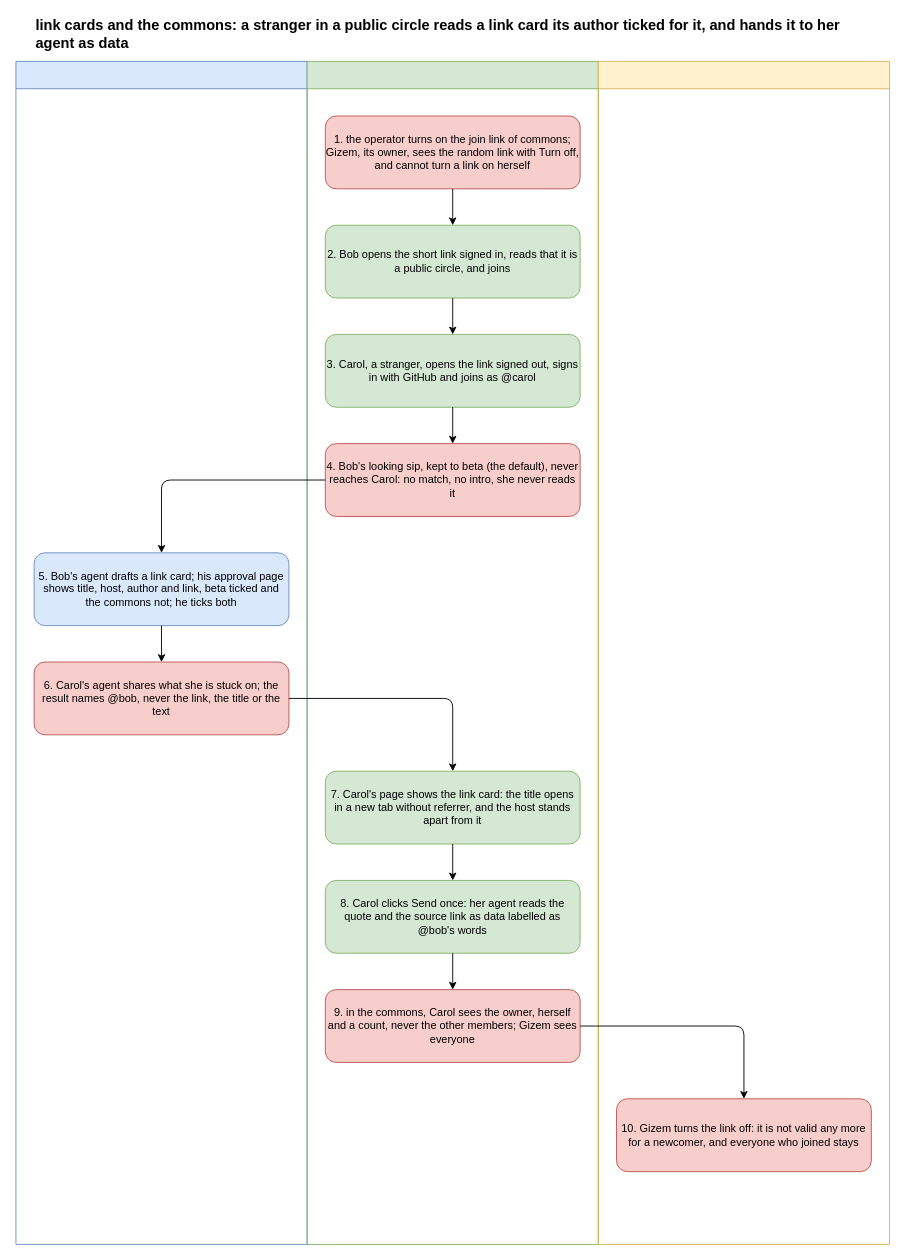
This 905x1260 diagram has some shape labels left out. Each missing label, with the box of its shape:
Agent (MCP client): (15, 61, 307, 1244)
Person (browser): (306, 61, 598, 1244)
Relay: (597, 61, 890, 1244)
